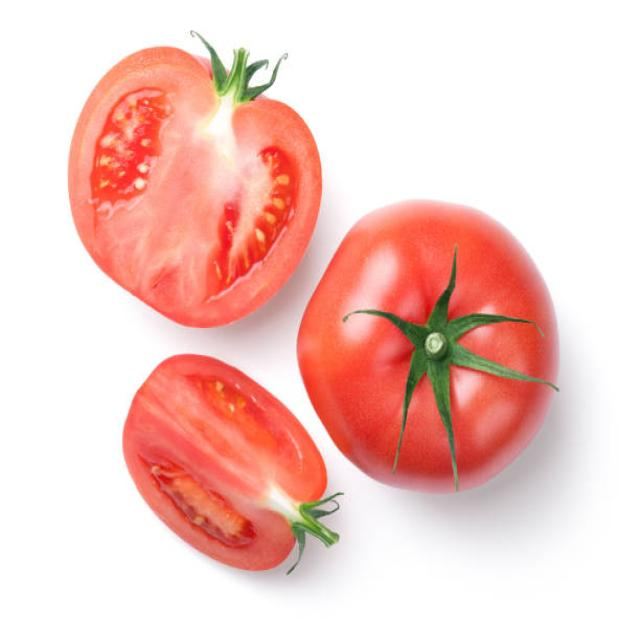Tomato: (64, 47, 338, 320), (104, 332, 366, 580)
